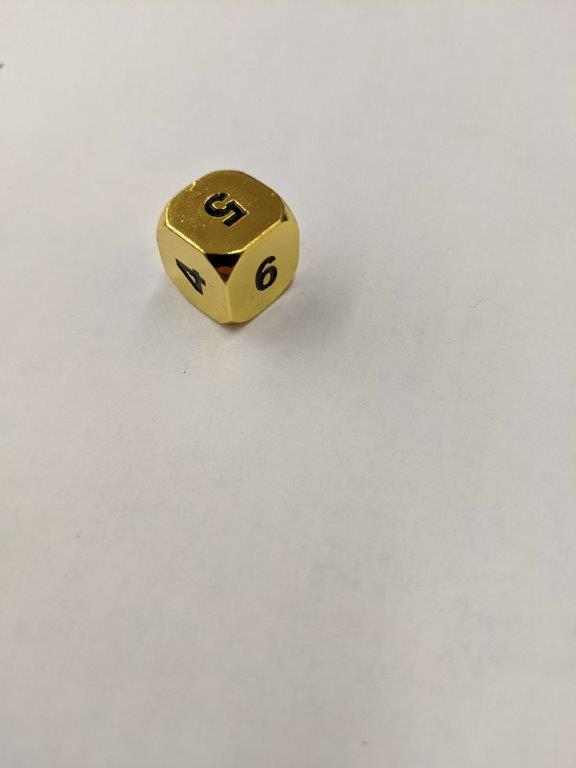d6-5: (154, 166, 303, 330)
